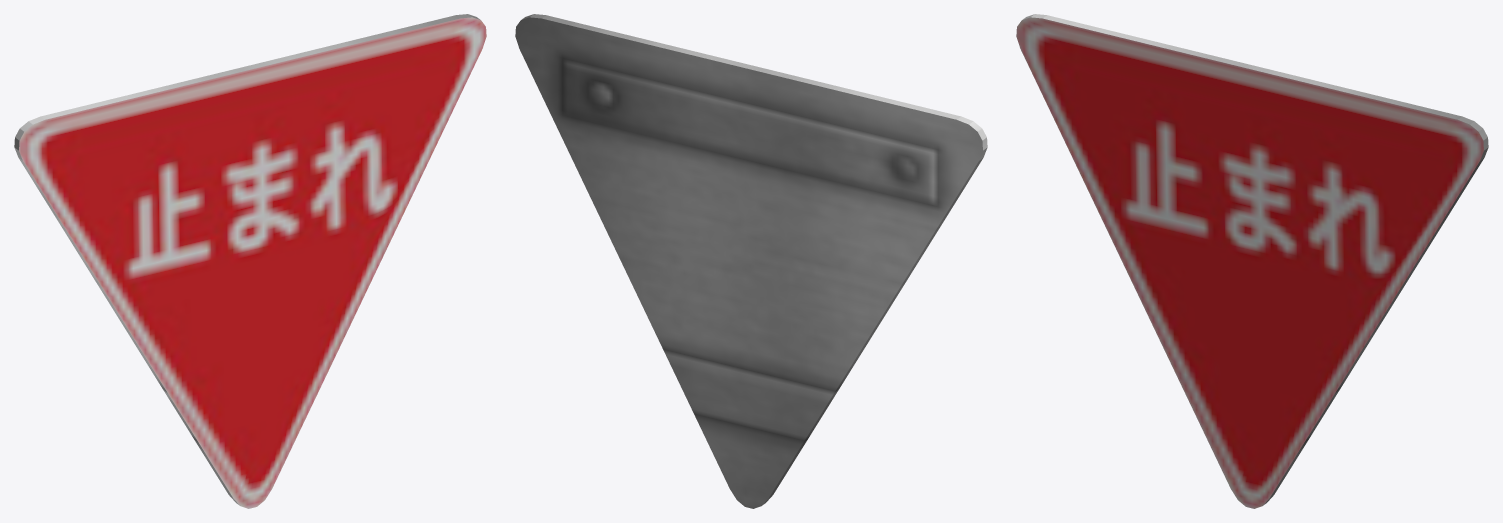
Rendered from TriangleHyoushiki01.fbx.
The picture shows the model from 3 angles, left to right: view 1: azimuth 30°, elevation 25°; view 2: azimuth 150°, elevation 25°; view 3: azimuth 330°, elevation 25°; orthographic projection.
Visible parts, largest first — view 1: Empty_Mesh; view 2: Empty_Mesh; view 3: Empty_Mesh.
Part boxes in pixels (x1=…): Empty_Mesh: x1=14, y1=14, x2=486, y2=508; Empty_Mesh: x1=515, y1=14, x2=987, y2=508; Empty_Mesh: x1=1016, y1=14, x2=1488, y2=508.
Bounding box in the file's own units: 0.9932 × 0.8905 × 0.0169.
